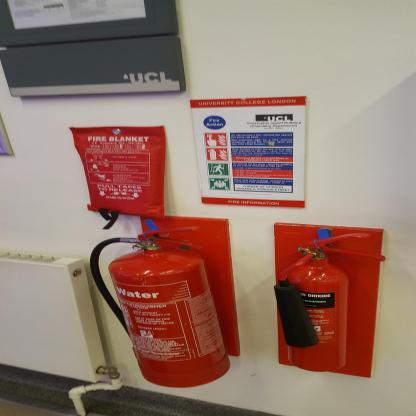Fire Extinguisher: (88, 208, 248, 392), (266, 220, 388, 393)
